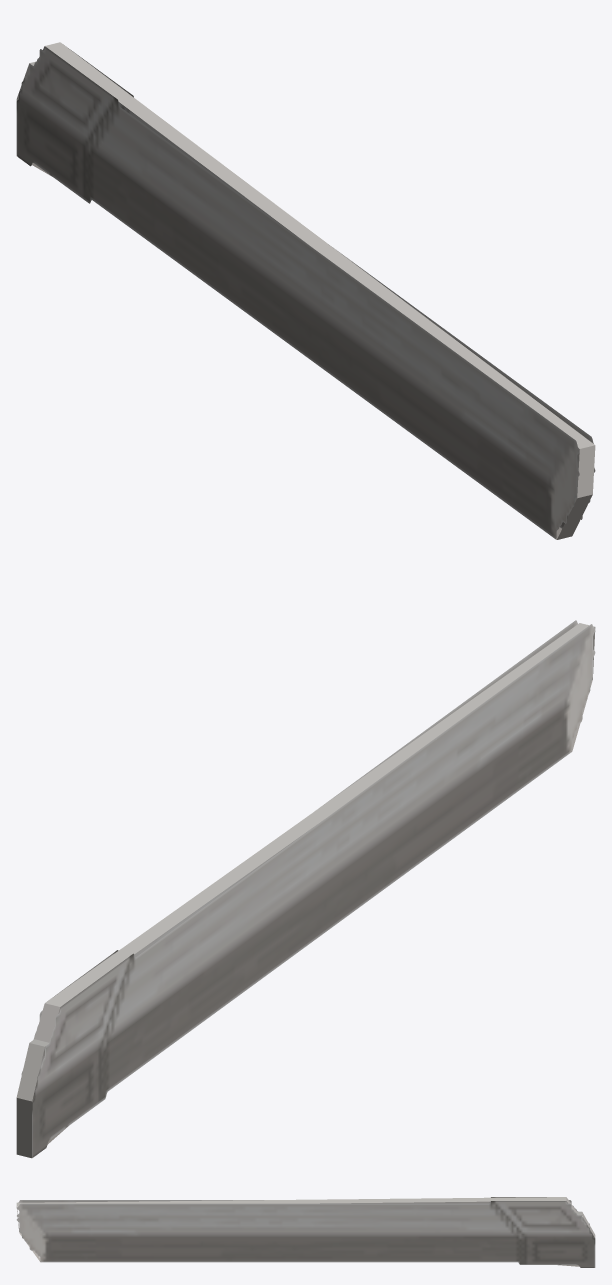
File: pz_native_fixtures_railings_01_79_frame.obj
3 renders of one model, top to bottom at view 1: azimuth 30°, elevation 25°; view 2: azimuth 150°, elevation 25°; view 3: azimuth 270°, elevation 25°, orthographic. The views are drawn at different scales.
Visible parts, largest first — view 1: pz_native_fixtures_railings_01_79_frame; view 2: pz_native_fixtures_railings_01_79_frame; view 3: pz_native_fixtures_railings_01_79_frame.
Part boxes in pixels (<box>): pz_native_fixtures_railings_01_79_frame: <box>16,42,595,539</box>; pz_native_fixtures_railings_01_79_frame: <box>16,620,595,1158</box>; pz_native_fixtures_railings_01_79_frame: <box>16,1197,595,1267</box>.
Size of the model in its own units: 0.045 by 0.3906 by 2.83.
1 material, 1 textured.
